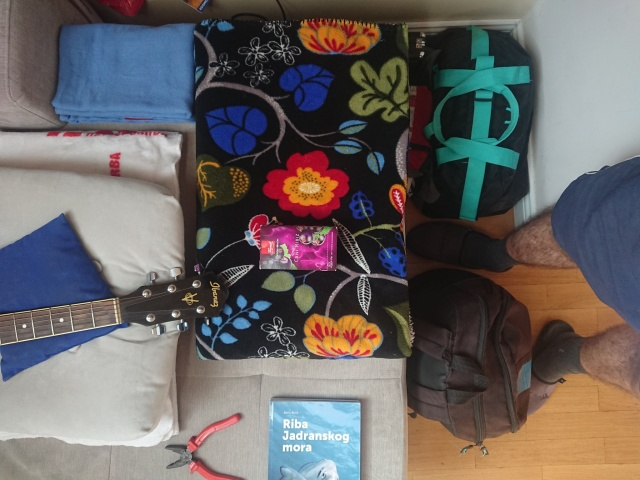Franck Black Currant Tea 60g: (257, 222, 340, 273)
